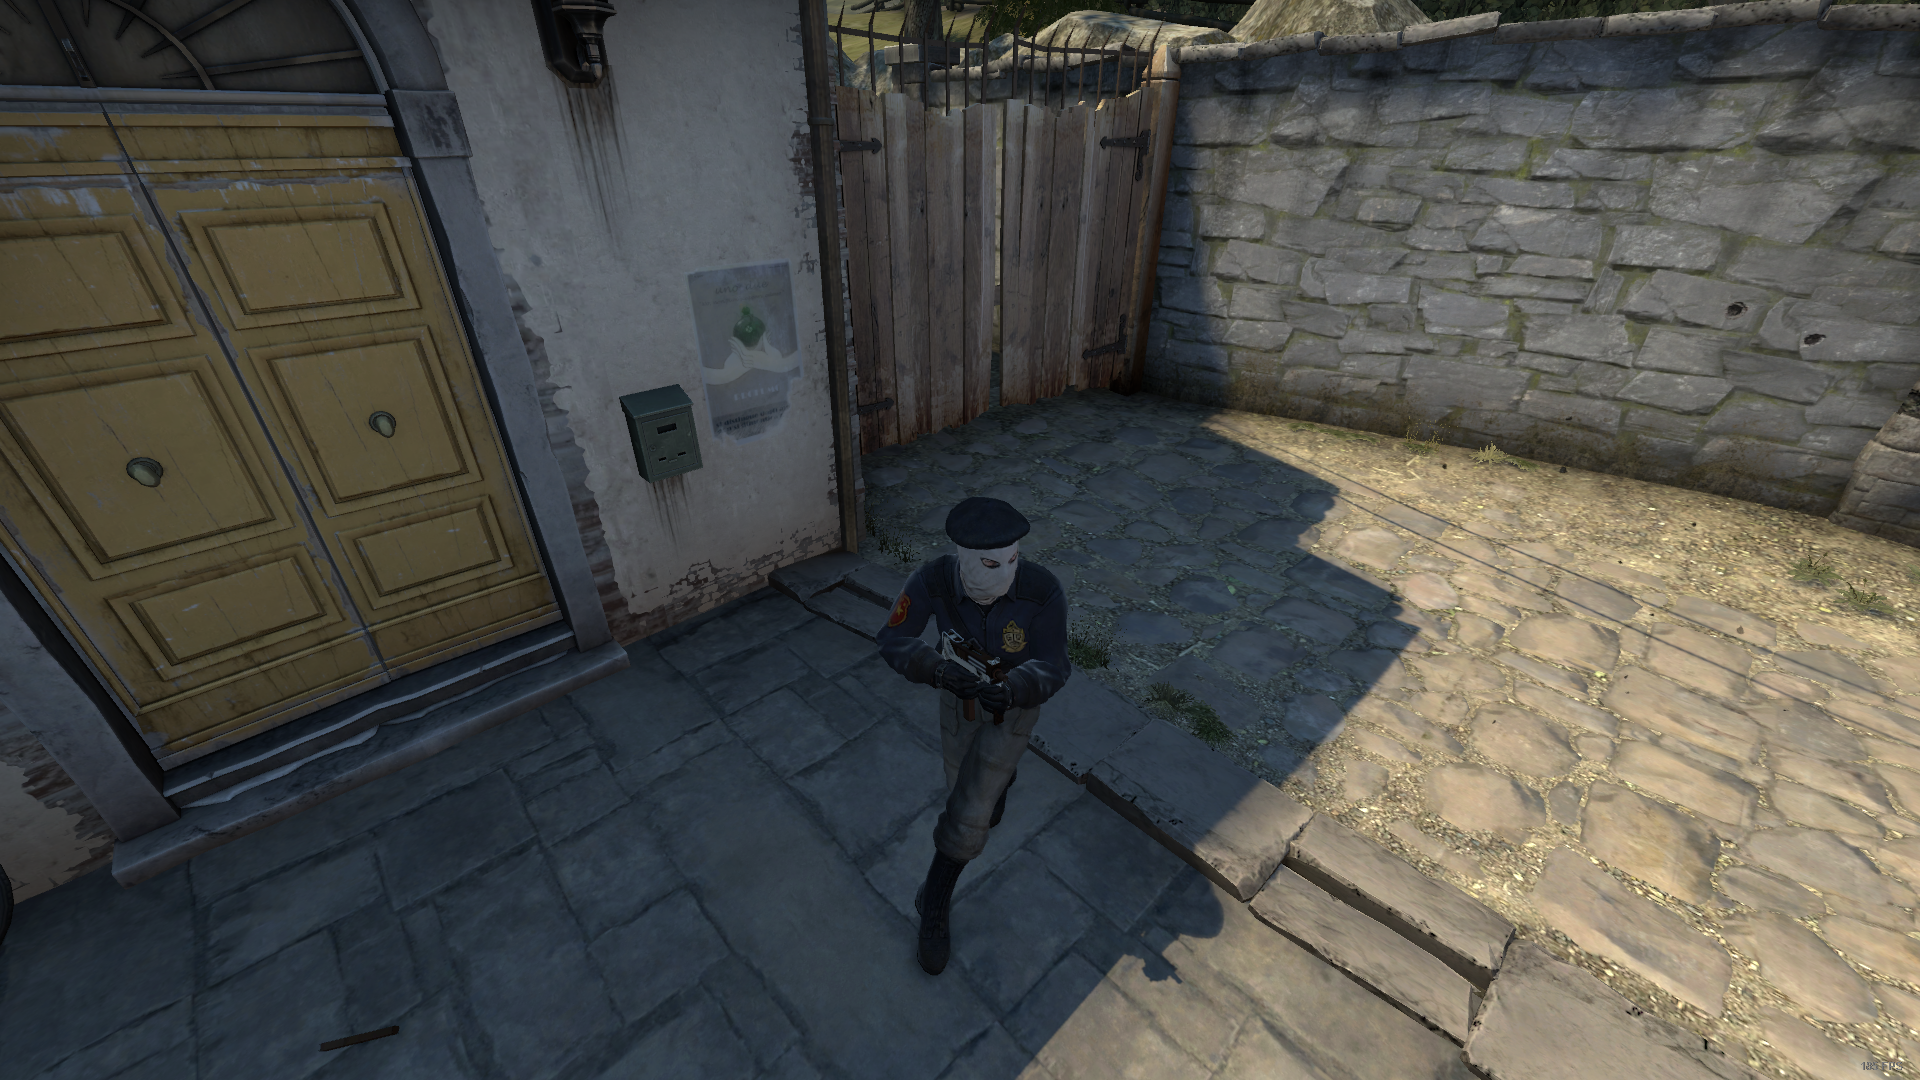t: (872, 495, 1083, 1004)
